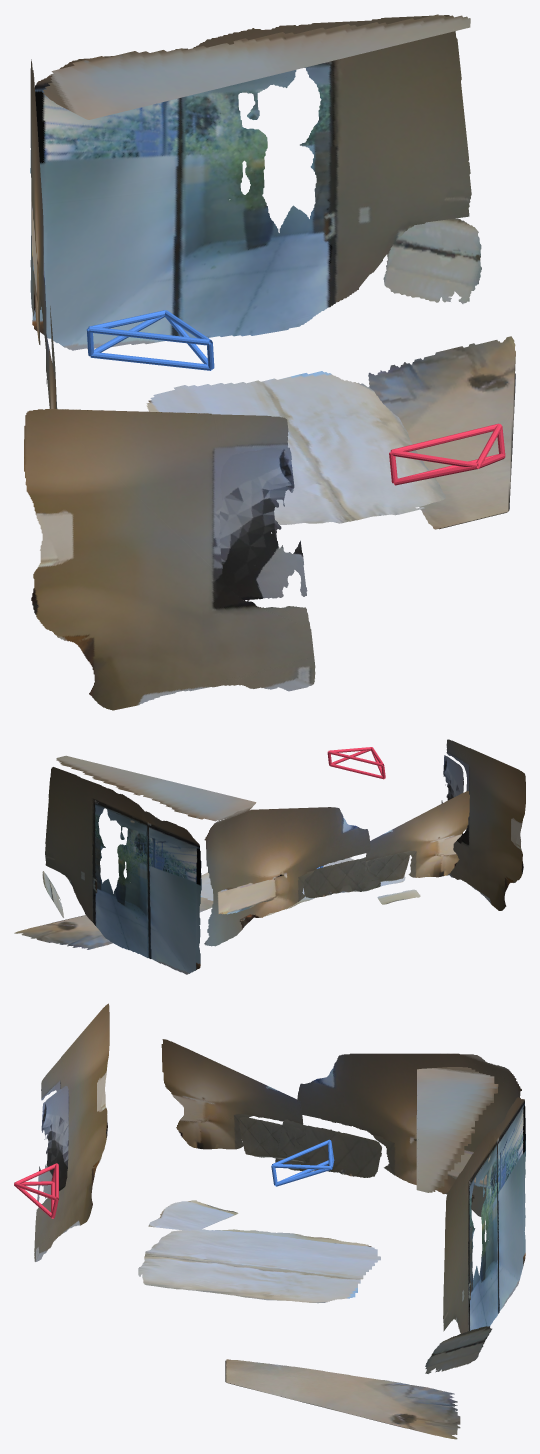
Rendered from pred.glb.
3 renders of one model, top to bottom at view 1: azimuth 30°, elevation 25°; view 2: azimuth 150°, elevation 25°; view 3: azimuth 270°, elevation 25°, orthographic. The views are drawn at different scales.
Parts seen in each view (by area): view 1: Node; view 2: Node; view 3: Node.
Part boxes in pixels (left/top/right/bottom): Node: left=24, top=14, right=515, bottom=710; Node: left=14, top=739, right=525, bottom=974; Node: left=14, top=1003, right=525, bottom=1439.
Bounding box in the file's own units: 5.63 × 2.62 × 5.1.
15 materials, 13 textured.
